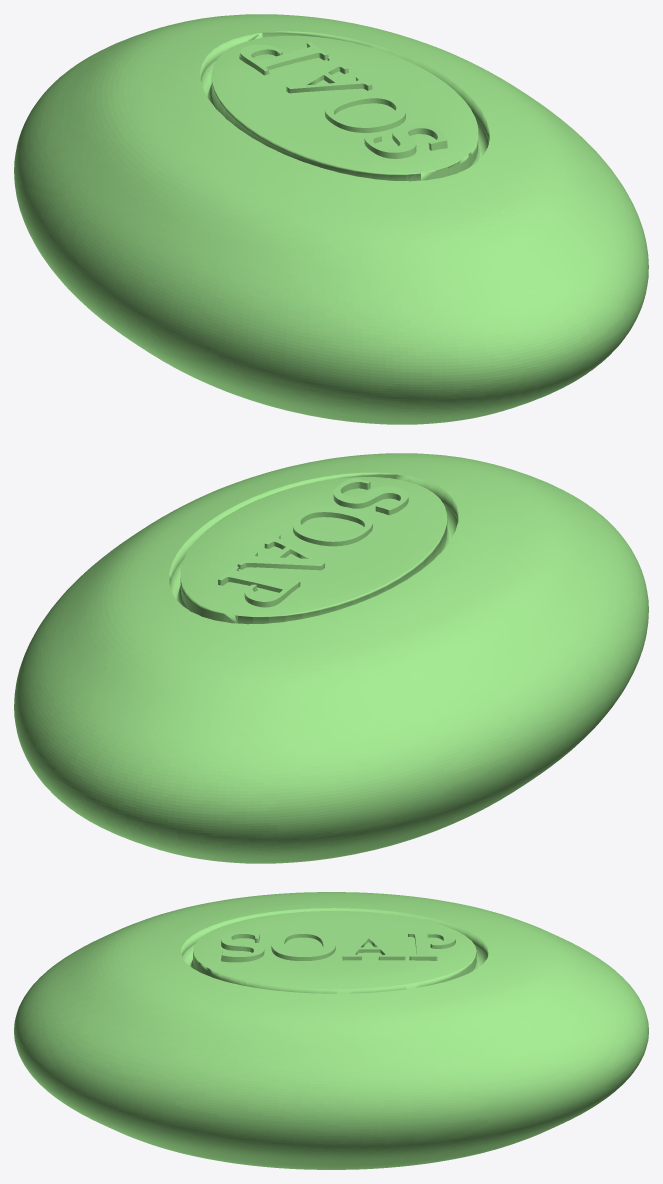
Rendered from jabon_2_animated_con.glb.
3 renders of one model, top to bottom at view 1: azimuth 30°, elevation 25°; view 2: azimuth 150°, elevation 25°; view 3: azimuth 270°, elevation 25°, orthographic. The views are drawn at different scales.
Parts seen in each view (by area): view 1: Sphere.001, Text; view 2: Sphere.001, Text; view 3: Sphere.001, Text.
Part boxes in pixels (<box>): Sphere.001: <box>14,14,648,424</box>; Text: <box>240,42,447,158</box>; Sphere.001: <box>14,453,648,863</box>; Text: <box>218,477,408,607</box>; Sphere.001: <box>14,892,648,1169</box>; Text: <box>221,932,455,962</box>.
Bounding box in the file's own units: 3.84 × 1.8 × 5.48.
